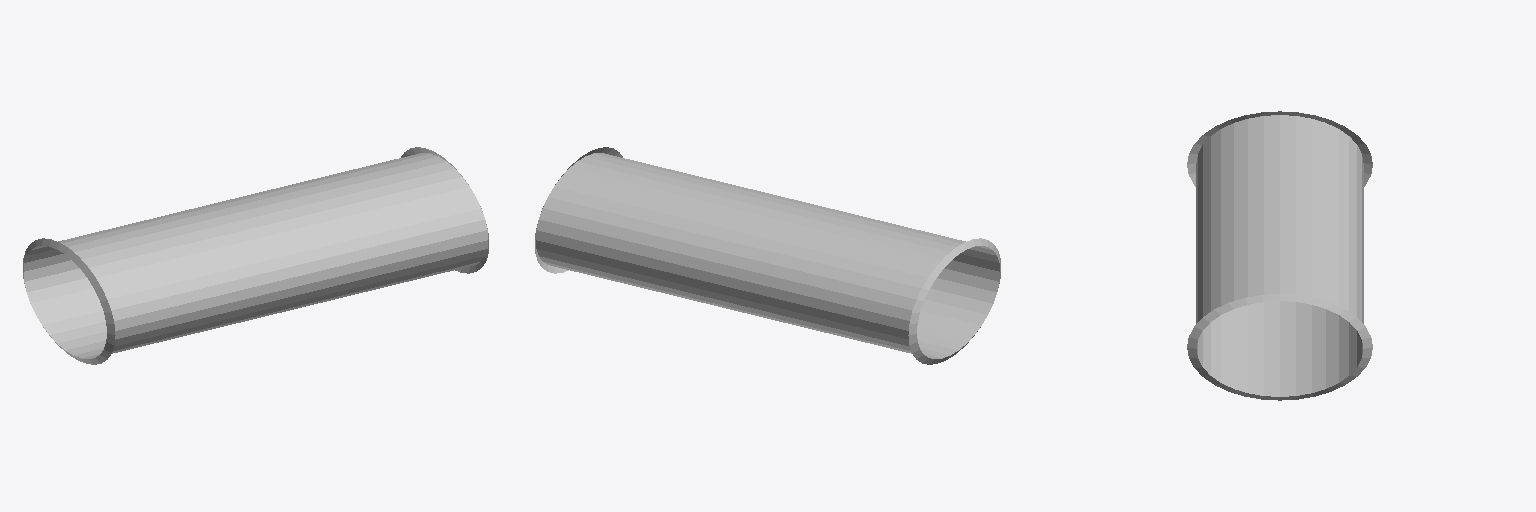
File: housesp_056.obj
3 views of the same model, side by side, from view 1: azimuth 30°, elevation 25°; view 2: azimuth 150°, elevation 25°; view 3: azimuth 270°, elevation 25° (orthographic).
Size of the model in its own units: 14.71 by 3.93 by 6.21.